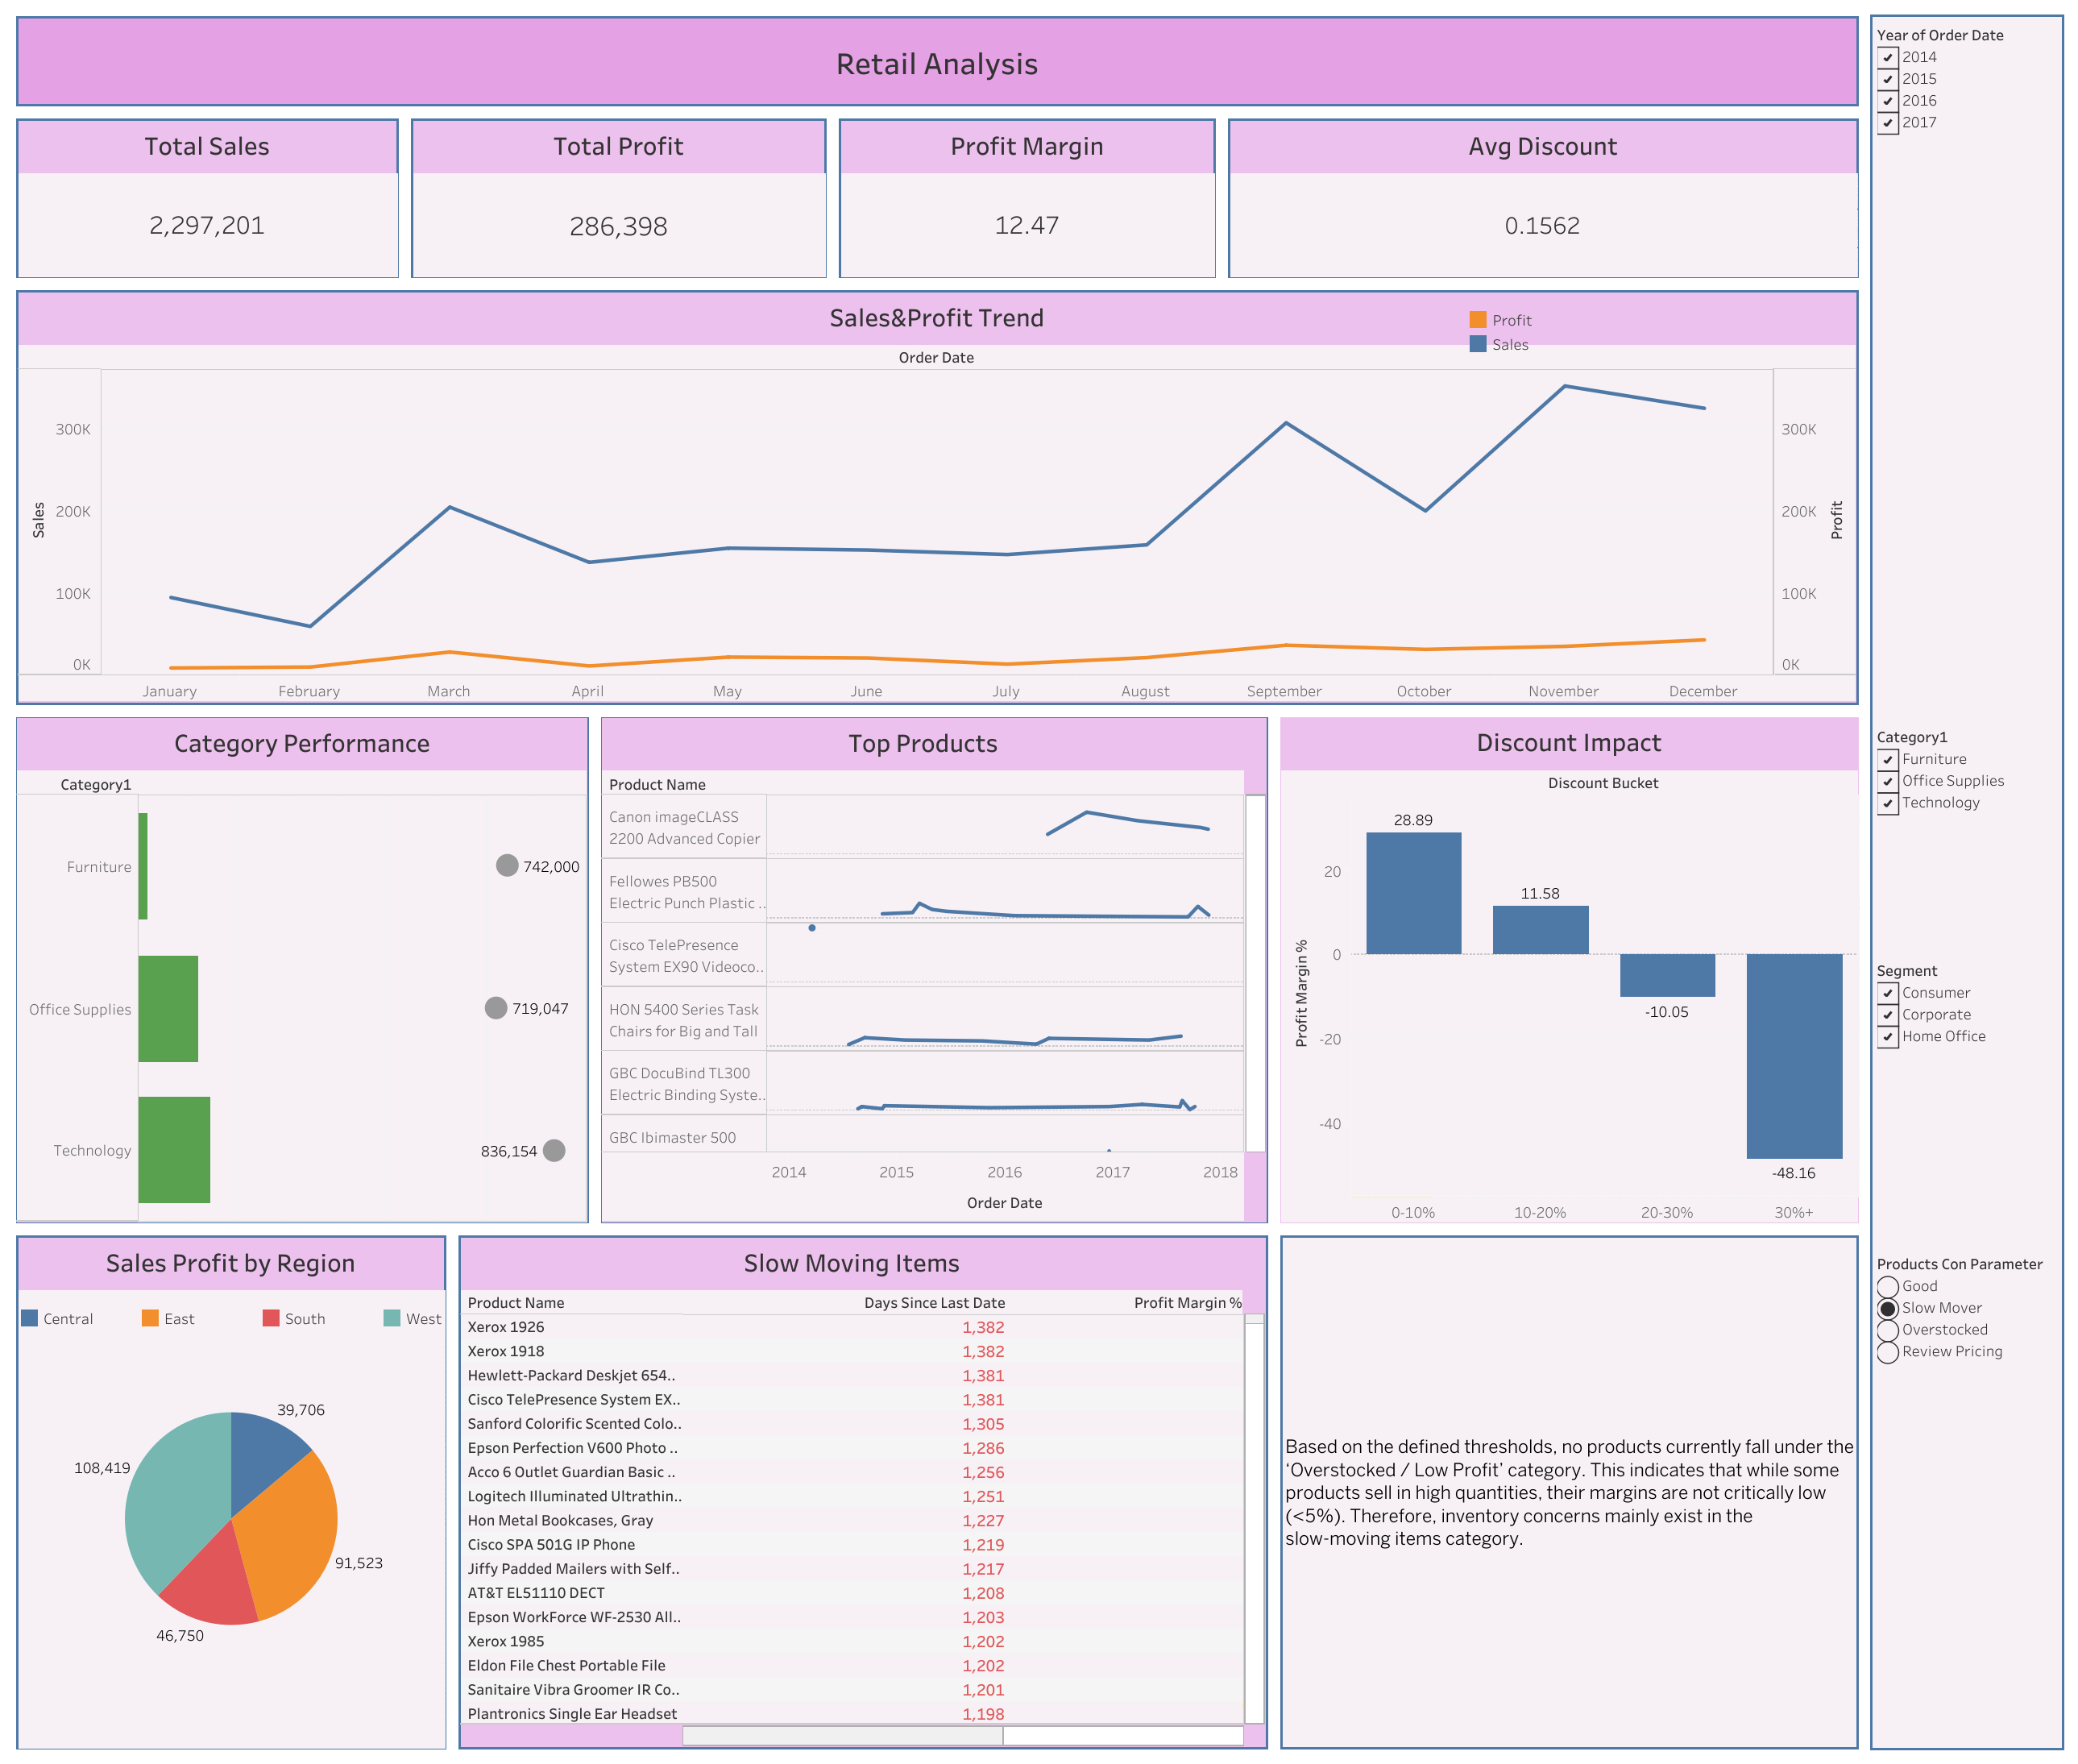

The dashboard page shown, as its layout file describes it:
{"tool":"tableau","page":{"name":"Dashboard 1","canvas":[1000,1000],"units":"permille","ordinal":0},"visuals":[{"type":"title","box":[4.7,5.5,892.4,58.2]},{"type":"filter","title":"Sales&Profit Trend","param":"[federated.1d1kl730a43bfa1ci18v71m1yj2h].[yr:Order_Date:ok]","box":[900.6,9.6,91.3,397.9]},{"type":"worksheet","title":"Total Sales","mark":"Automatic","box":[4.7,63.7,189.9,97.5]},{"type":"worksheet","title":"Total Profit","mark":"Automatic","box":[194.5,63.7,205.9,97.5]},{"type":"worksheet","title":"Profit Margin","mark":"Automatic","box":[400.4,63.7,187.5,97.5]},{"type":"worksheet","title":"Avg Discount","mark":"Automatic","box":[587.9,63.7,309.2,97.5]},{"type":"worksheet","title":"Sales&Profit Trend","mark":"Automatic","rows":["Sales","Profit"],"cols":["Order_Date"],"box":[4.7,161.2,892.4,241.6]},{"type":"legend","title":"Sales&Profit Trend","param":"[federated.1d1kl730a43bfa1ci18v71m1yj2h].[:Measure Names]","box":[705.2,174,175,28.8]},{"type":"worksheet","title":"Category Performance","mark":"Automatic","rows":["Category"],"cols":["Profit","Sales"],"box":[4.7,402.8,281.5,293.8]},{"type":"worksheet","title":"Top Products","mark":"Line","rows":["Product_Name","Sales"],"cols":["Order_Date"],"box":[286.1,402.8,326.6,293.8]},{"type":"worksheet","title":"Discount Impact","mark":"Automatic","rows":["Calculation_863283799563509762"],"cols":["Calculation_743656934651940864"],"box":[612.7,402.8,284.4,293.8]},{"type":"filter","title":"Category Performance","param":"[federated.1d1kl730a43bfa1ci18v71m1yj2h].[none:Category:nk]","box":[900.6,407.5,91.3,132.2]},{"type":"filter","title":"Top Products","param":"[federated.1d1kl730a43bfa1ci18v71m1yj2h].[none:Segment:nk]","box":[900.6,539.7,91.3,166.4]},{"type":"worksheet","title":"Sales Profit by Region","mark":"Pie","box":[4.7,696.6,212.7,297.9]},{"type":"worksheet","title":"Slow Moving Items","mark":"Automatic","rows":["Product_Name"],"box":[217.4,696.6,395.3,297.9]},{"type":"text","box":[612.7,696.6,284.4,297.9]},{"type":"parameter","param":"[Parameters].[Parameter 1]","box":[900.6,706.2,91.3,106.2]},{"type":"legend","title":"Sales Profit by Region","param":"[federated.1d1kl730a43bfa1ci18v71m1yj2h].[none:Region:nk]","box":[8.1,739.7,209.3,19.2]}]}

Visuals, with their boxes on the dashboard's canvas, which has no fixed pixel size, in thousandths of its width and height (x1, y1, x2, y2). These are canvas units, not pixel positions in the 2078x1764 screenshot, which may show the page scaled, cropped or inside an application window:
title: region(5, 6, 897, 64)
"Sales&Profit Trend" filter: region(901, 10, 992, 408)
"Total Sales" worksheet: region(5, 64, 195, 161)
"Total Profit" worksheet: region(194, 64, 400, 161)
"Profit Margin" worksheet: region(400, 64, 588, 161)
"Avg Discount" worksheet: region(588, 64, 897, 161)
"Sales&Profit Trend" worksheet: region(5, 161, 897, 403)
"Sales&Profit Trend" legend: region(705, 174, 880, 203)
"Category Performance" worksheet: region(5, 403, 286, 697)
"Top Products" worksheet (Line marks): region(286, 403, 613, 697)
"Discount Impact" worksheet: region(613, 403, 897, 697)
"Category Performance" filter: region(901, 408, 992, 540)
"Top Products" filter: region(901, 540, 992, 706)
"Sales Profit by Region" worksheet (Pie marks): region(5, 697, 217, 994)
"Slow Moving Items" worksheet: region(217, 697, 613, 994)
text: region(613, 697, 897, 994)
parameter: region(901, 706, 992, 812)
"Sales Profit by Region" legend: region(8, 740, 217, 759)
